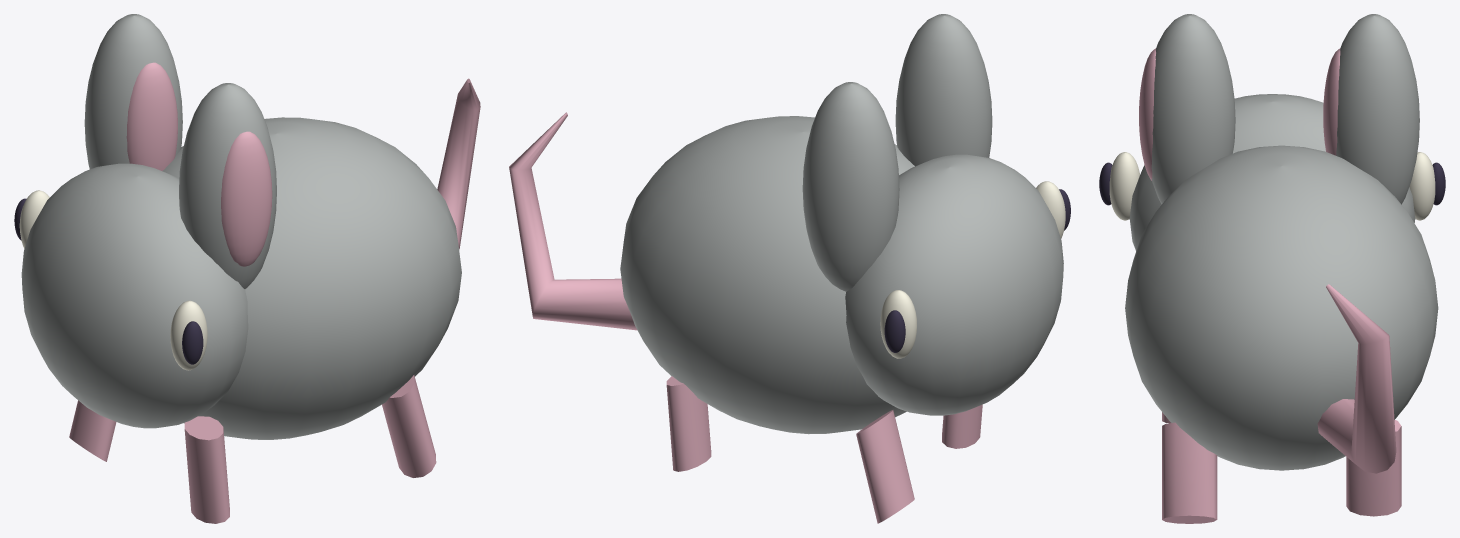
File: rat.glb
3 renders of one model, left to right at view 1: azimuth 30°, elevation 25°; view 2: azimuth 150°, elevation 25°; view 3: azimuth 270°, elevation 25°, orthographic. The views are drawn at different scales.
Size of the model in its own units: 26.3 by 22.54 by 16.7.
